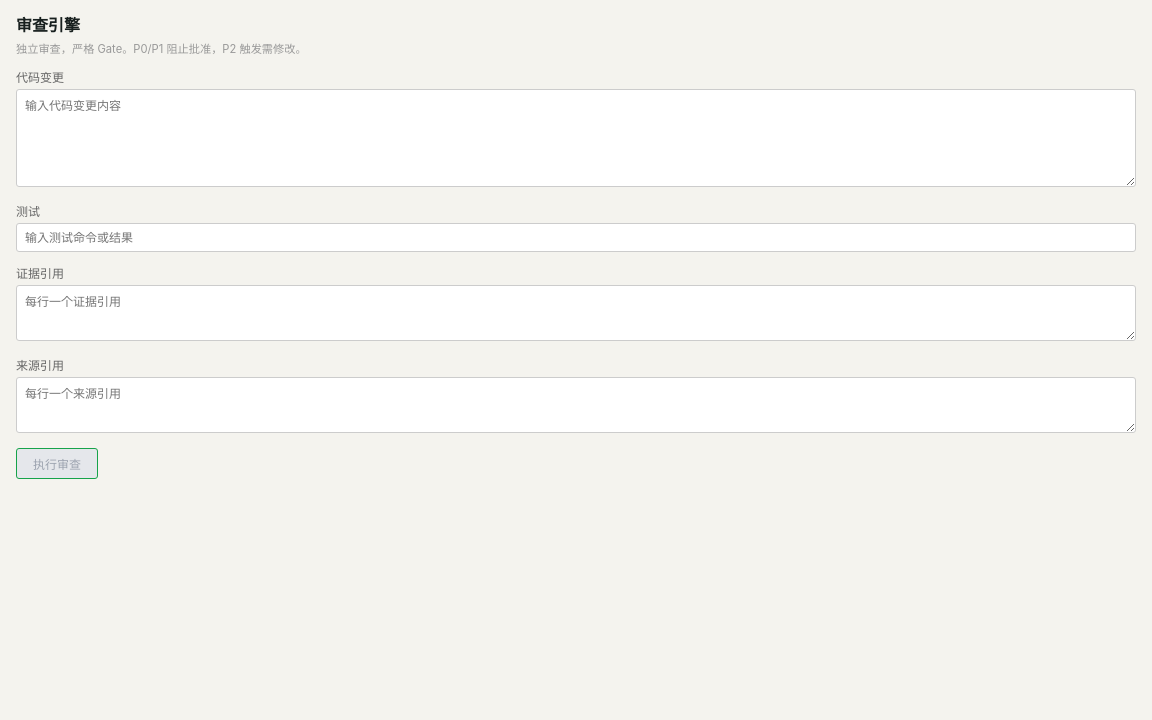
ReviewerPanel › shows findings list with severity/category
This screenshot has width=1152, height=720.
Type "code" into the text box with placeholder "输入代码变更内容" at (576, 138), box 16,89 -> 1136,187
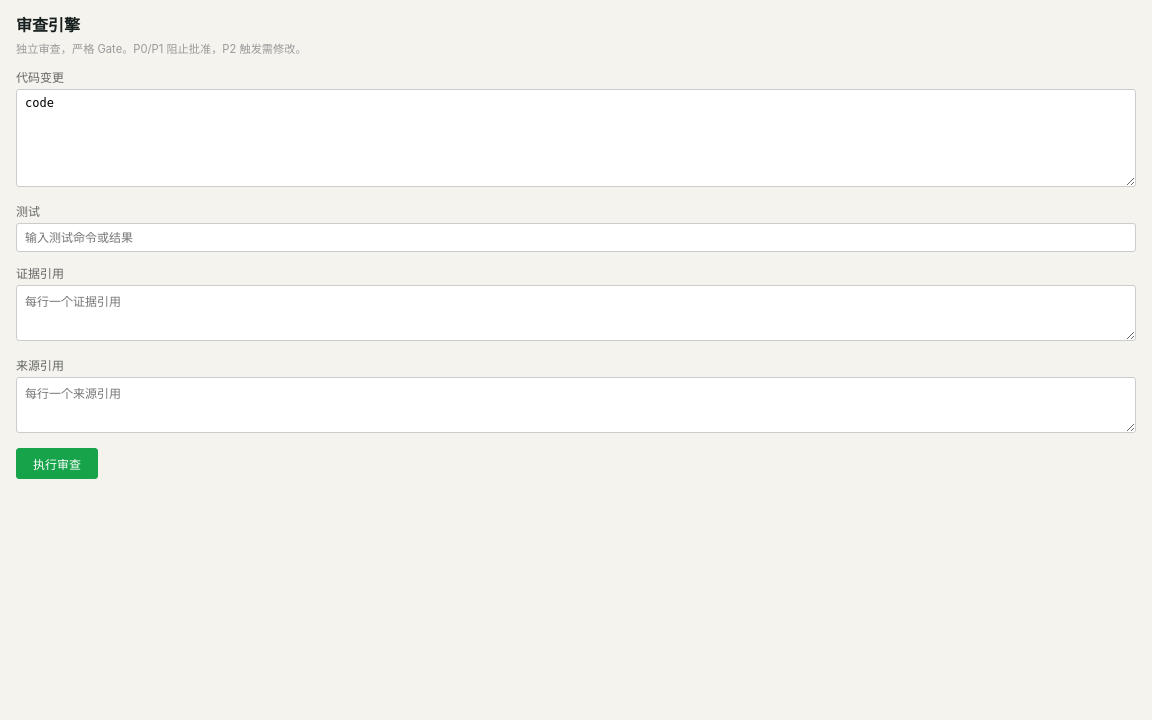
Click the button "执行审查" at (57, 464), box 16,448 -> 98,479
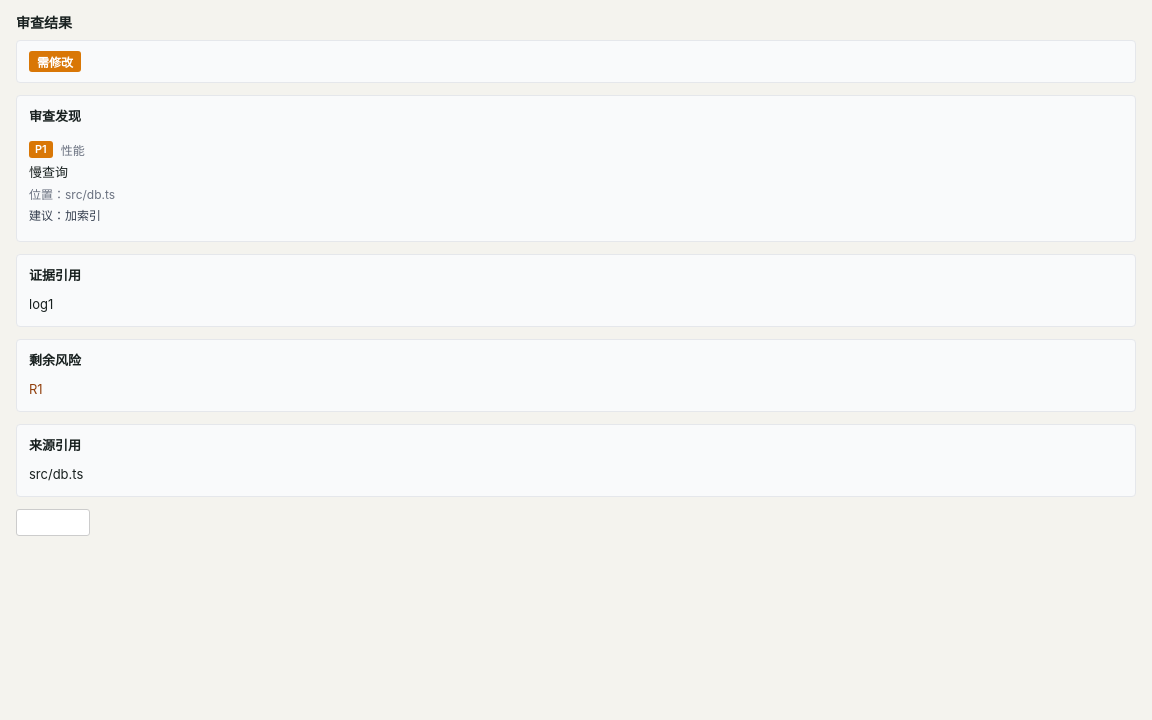
Now the text "审查发现" is shown, box 29,108 -> 81,124
Now the text "性能" is shown, box 61,141 -> 85,158
Now the text "慢查询" is shown, box 29,164 -> 68,180
